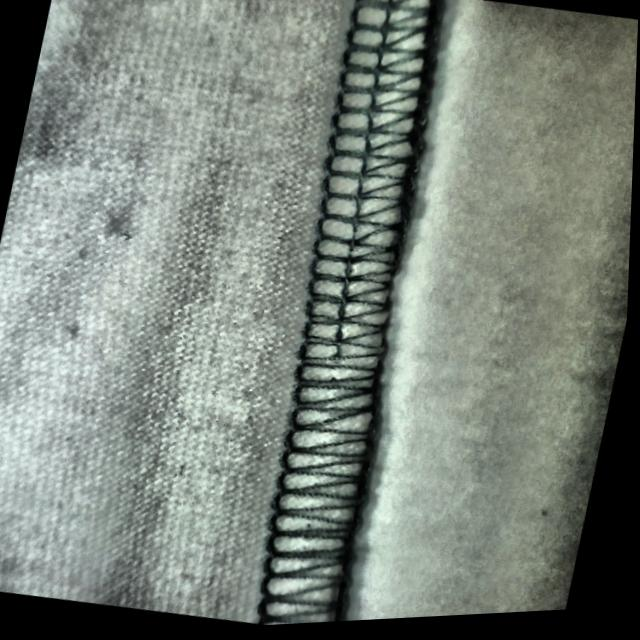Stitch: (244, 151, 438, 575)
